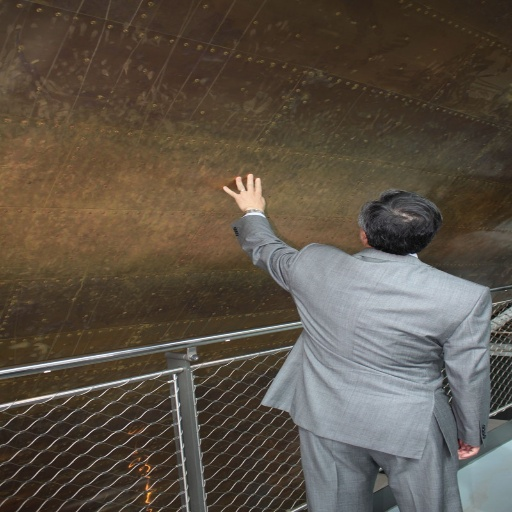hand: (223, 171, 286, 248), (455, 437, 481, 461)
